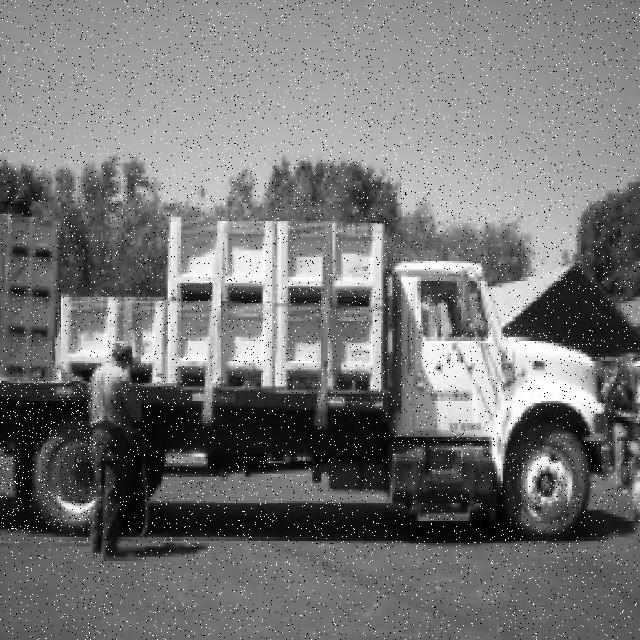Box Truck: (137, 259, 613, 537), (0, 380, 96, 530)
